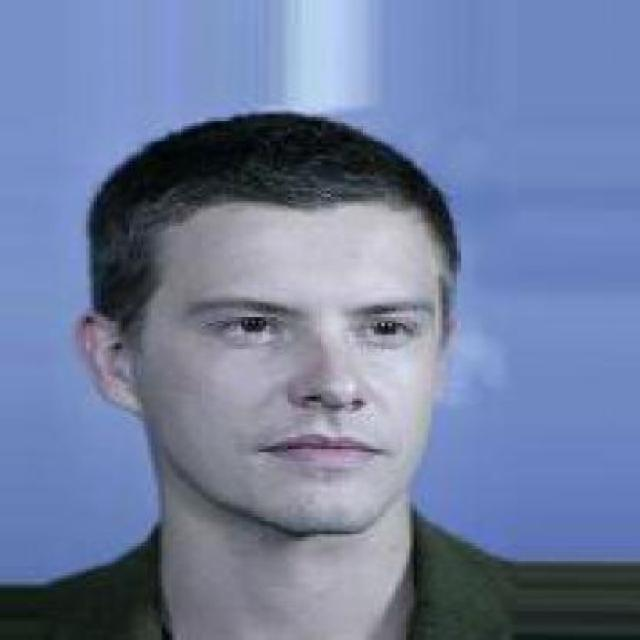closed-mouth: (266, 425, 391, 473)
